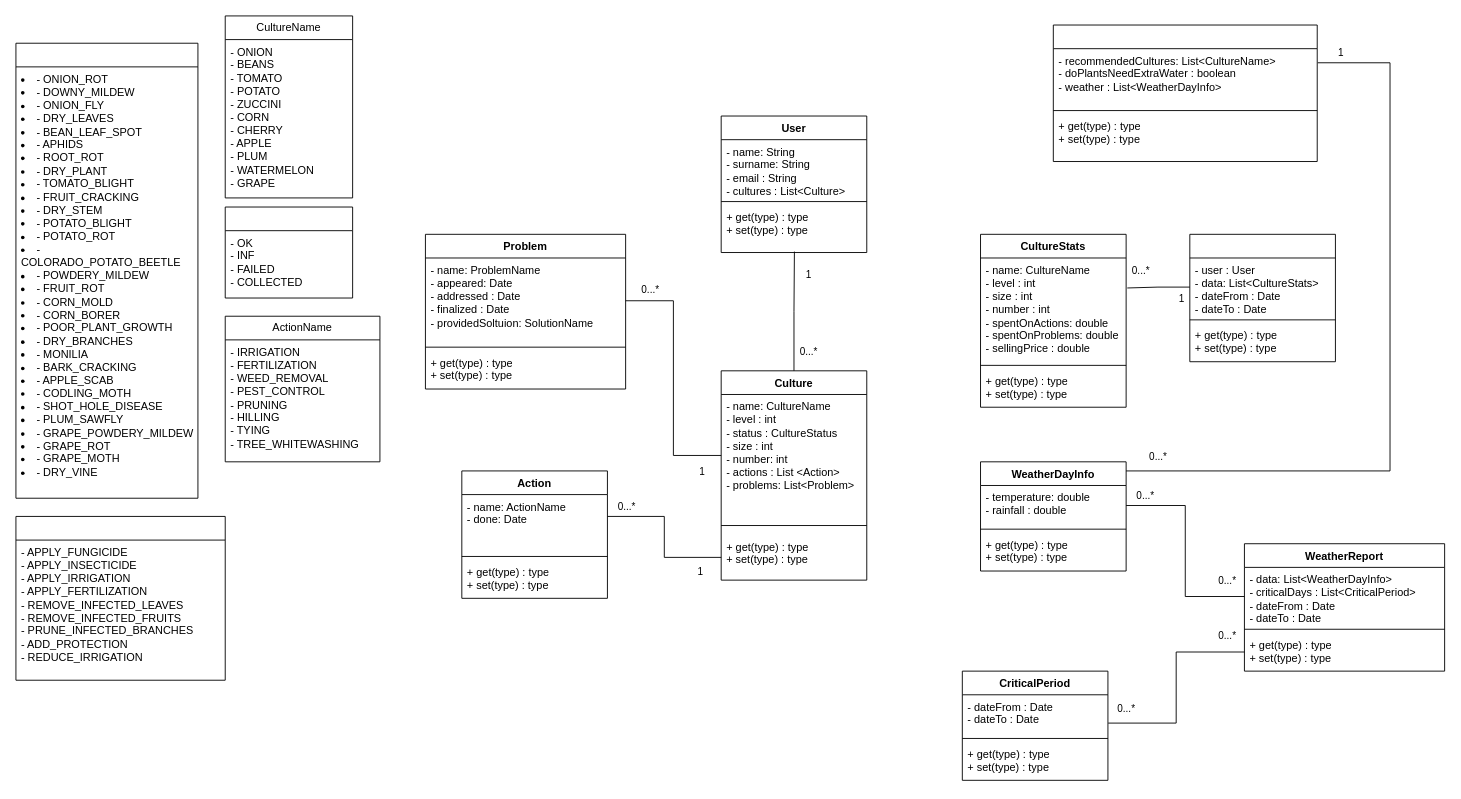
This 1461x799 diagram has some shape labels left out. Here are the shapes that lost their labels. From the top down, the box of each, then its label:
(1052, 24, 1317, 162): SystemInfo
(15, 42, 198, 498): ProblemName
(224, 206, 353, 298): CultureStatus
(1189, 233, 1335, 362): FinanceReport
(15, 516, 225, 680): SolutionName
